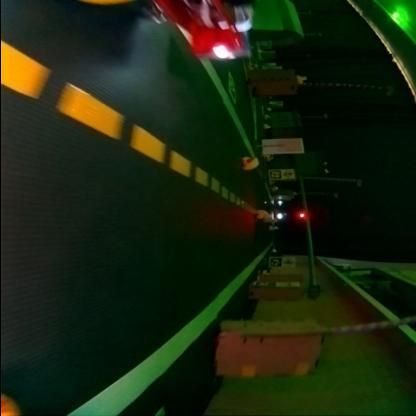Duckie: (242, 156, 260, 170), (255, 209, 268, 219)
Duckiebot: (74, 0, 256, 60)
Intersection sign: (284, 257, 296, 266)
QR code: (270, 257, 282, 266), (271, 169, 280, 178)
Signal sign: (282, 168, 294, 178)
Traffic light: (298, 212, 310, 218)
